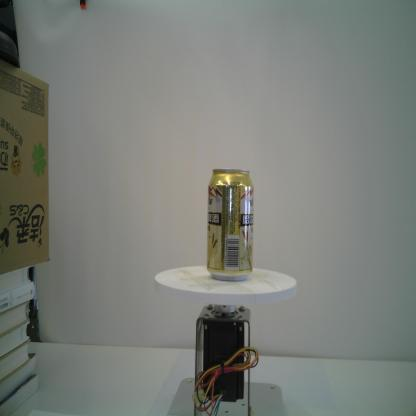Alcohol: (206, 169, 254, 282)
